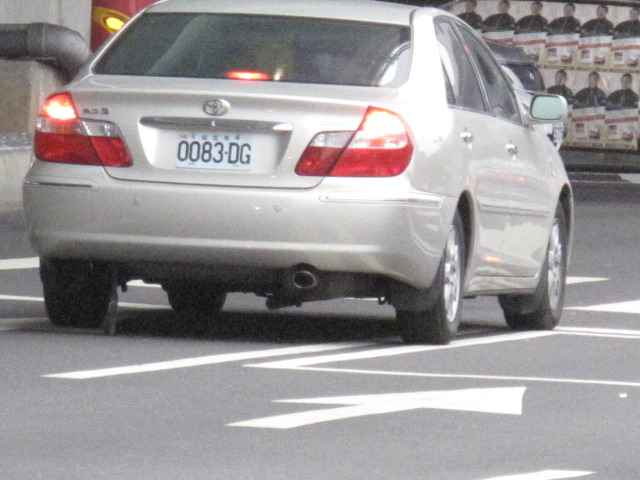plate: (174, 128, 257, 173)
